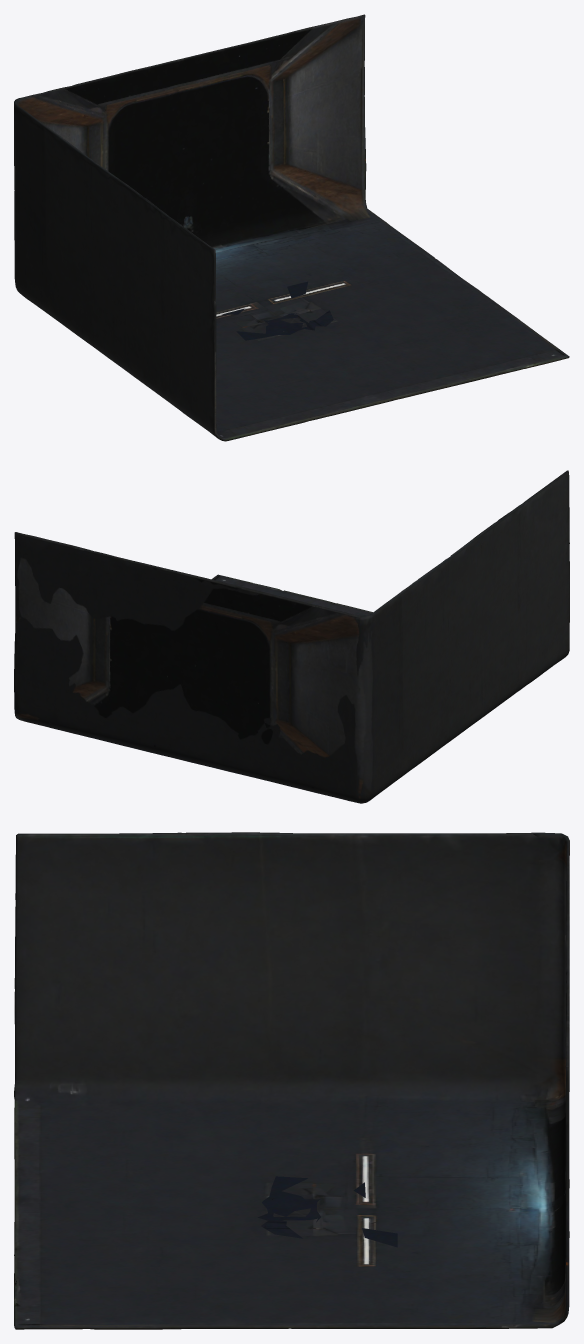
Rendered from RoomUpdate.glb.
3 renders of one model, top to bottom at view 1: azimuth 30°, elevation 25°; view 2: azimuth 150°, elevation 25°; view 3: azimuth 270°, elevation 25°, orthographic. The views are drawn at different scales.
Visible parts, largest first — view 1: Mesh_0; view 2: Mesh_0; view 3: Mesh_0.
Part boxes in pixels (x1,y1,x2,y2): Mesh_0: (14, 14, 569, 441); Mesh_0: (14, 470, 569, 803); Mesh_0: (14, 832, 569, 1329).
Bounding box in the file's own units: 2.01 × 1.05 × 2.01.
1 material, 1 textured.
